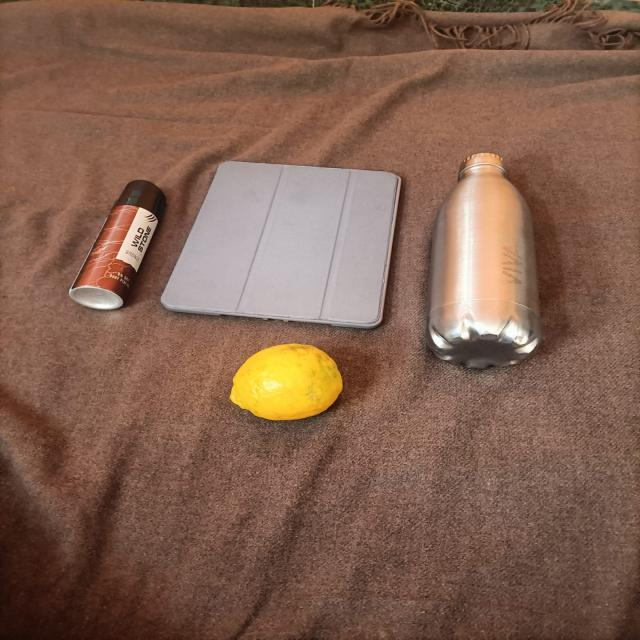bottle: (414, 147, 554, 394)
orange: (213, 342, 358, 430)
spray: (53, 162, 178, 324)
tablet: (160, 131, 413, 339)
